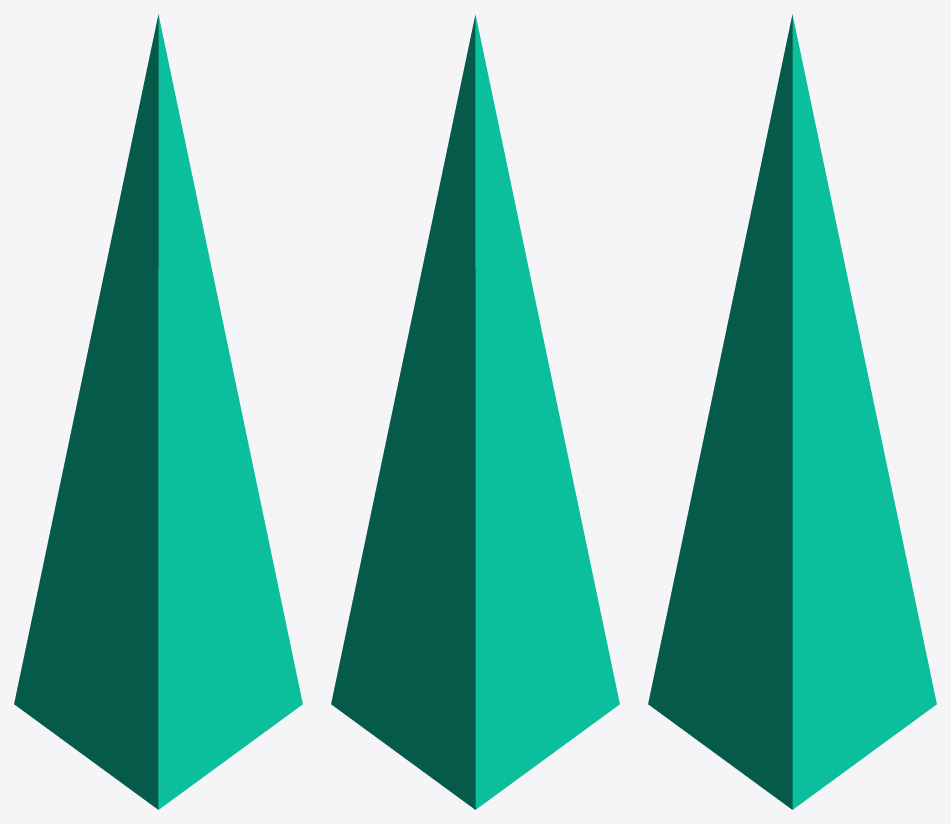
Rendered from Spike1.fbx.
3 renders of one model, left to right at view 1: azimuth 30°, elevation 25°; view 2: azimuth 150°, elevation 25°; view 3: azimuth 270°, elevation 25°, orthographic.
Visible parts, largest first — view 1: Spike1; view 2: Spike1; view 3: Spike1.
Part boxes in pixels (x1,y1,x2,y2): Spike1: (14, 14, 302, 809); Spike1: (331, 14, 619, 809); Spike1: (648, 14, 936, 809).
Size of the model in its own units: 0.4092 by 1.31 by 0.4725.
